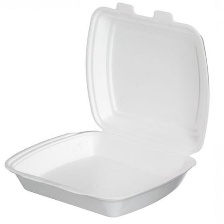foam_box: (1, 0, 214, 221)
